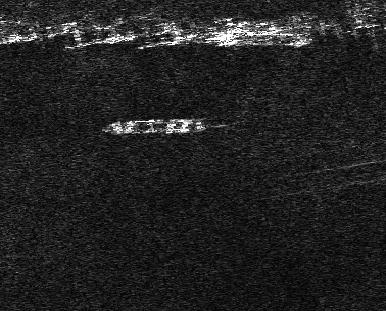ship: (100, 117, 210, 137)
